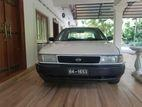car: (37, 21, 130, 89)
